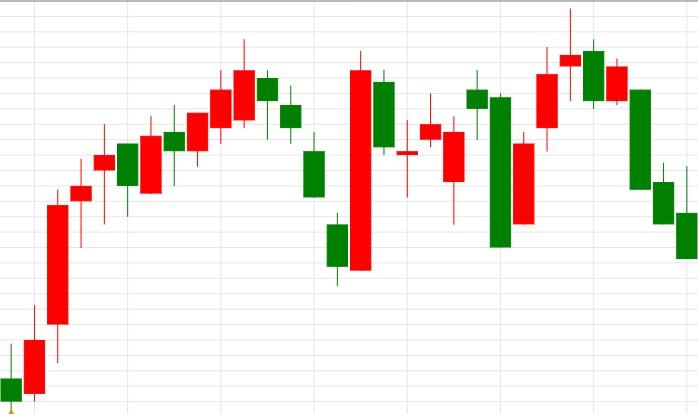three_black_crows_fall: (0, 39, 326, 411)
